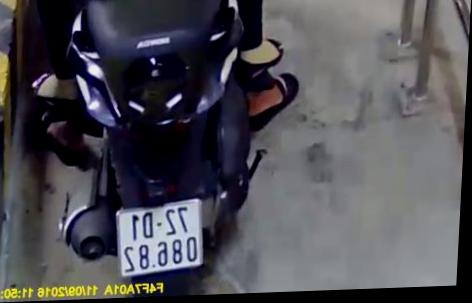License_Plate: (110, 193, 211, 283)
